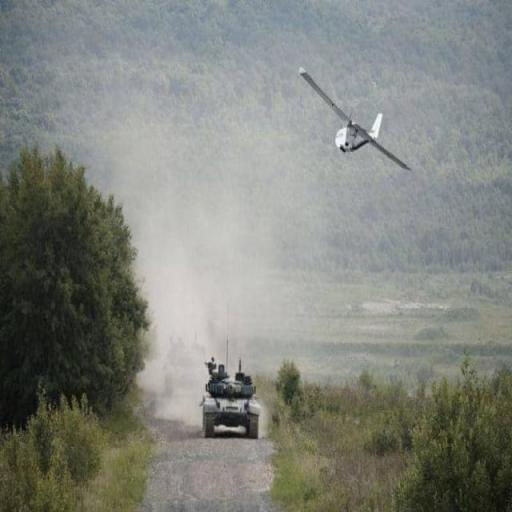uav: (296, 54, 414, 180)
